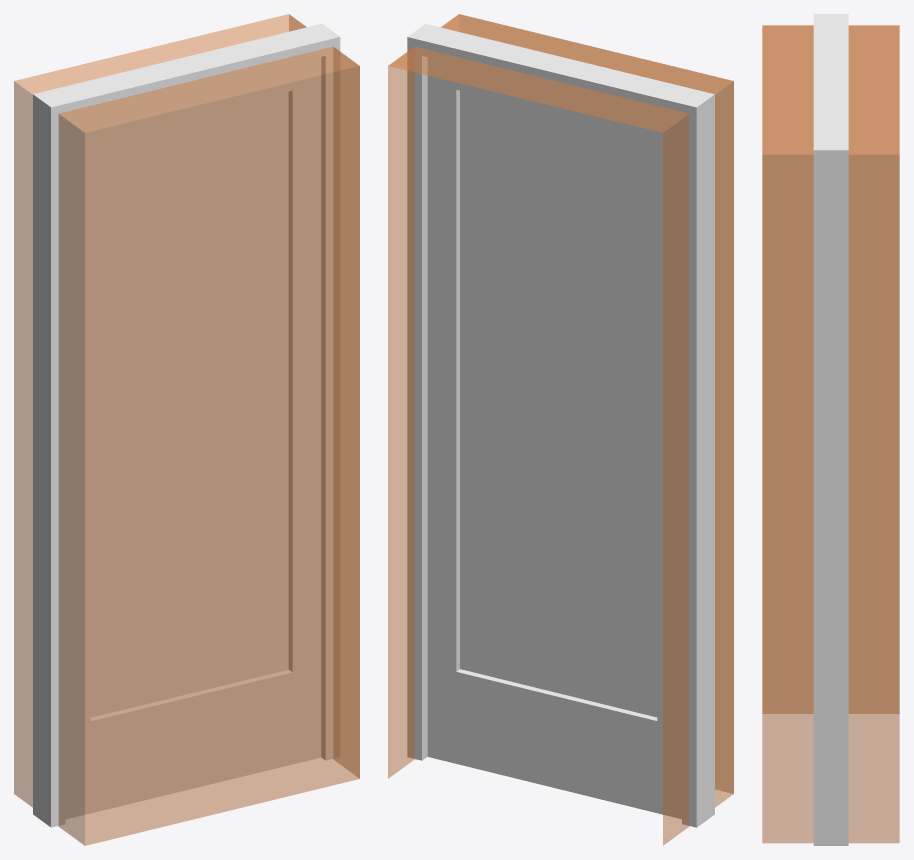
File: door2.glb
3 views of the same model, side by side, from view 1: azimuth 30°, elevation 25°; view 2: azimuth 150°, elevation 25°; view 3: azimuth 270°, elevation 25° (orthographic). The views are drawn at different scales.
Visible parts, largest first — view 1: _bool.003, door, frame; view 2: door, _bool.003, frame; view 3: _bool.003, frame.
Part boxes in pixels (<box>): _bool.003: <box>14,14,359,845</box>; door: <box>65,57,321,819</box>; frame: <box>33,23,340,827</box>; door: <box>427,57,681,819</box>; _bool.003: <box>388,14,733,845</box>; frame: <box>407,24,714,827</box>; _bool.003: <box>762,25,899,843</box>; frame: <box>813,14,848,845</box>.
Bounding box in the file's own units: 0.8873 × 2.11 × 0.3768.
